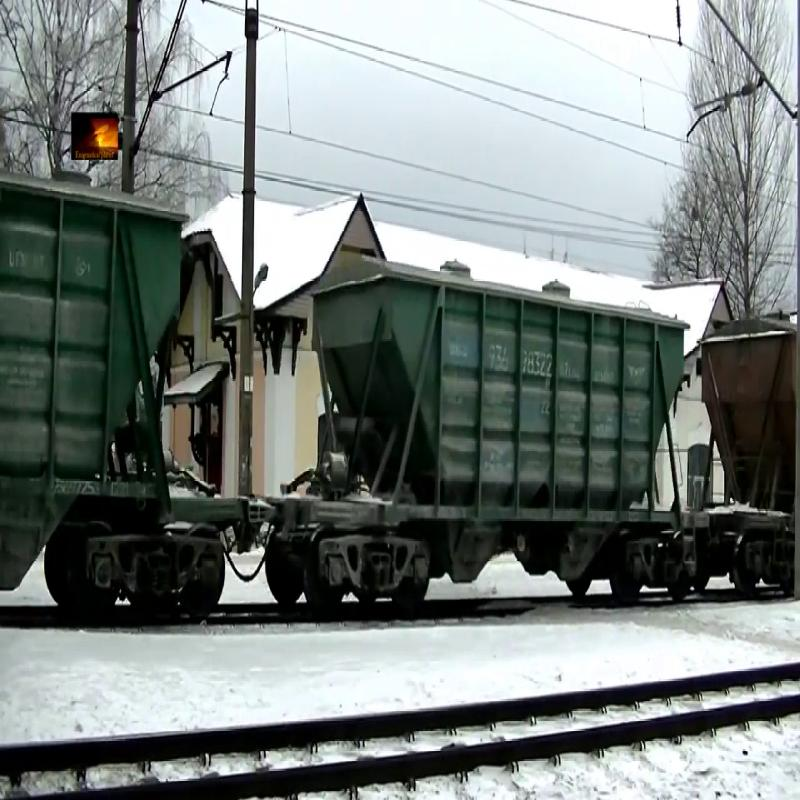train: (284, 262, 691, 606), (1, 178, 193, 613)
